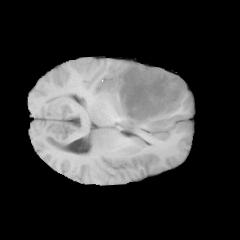glioma: (119, 61, 186, 129)
